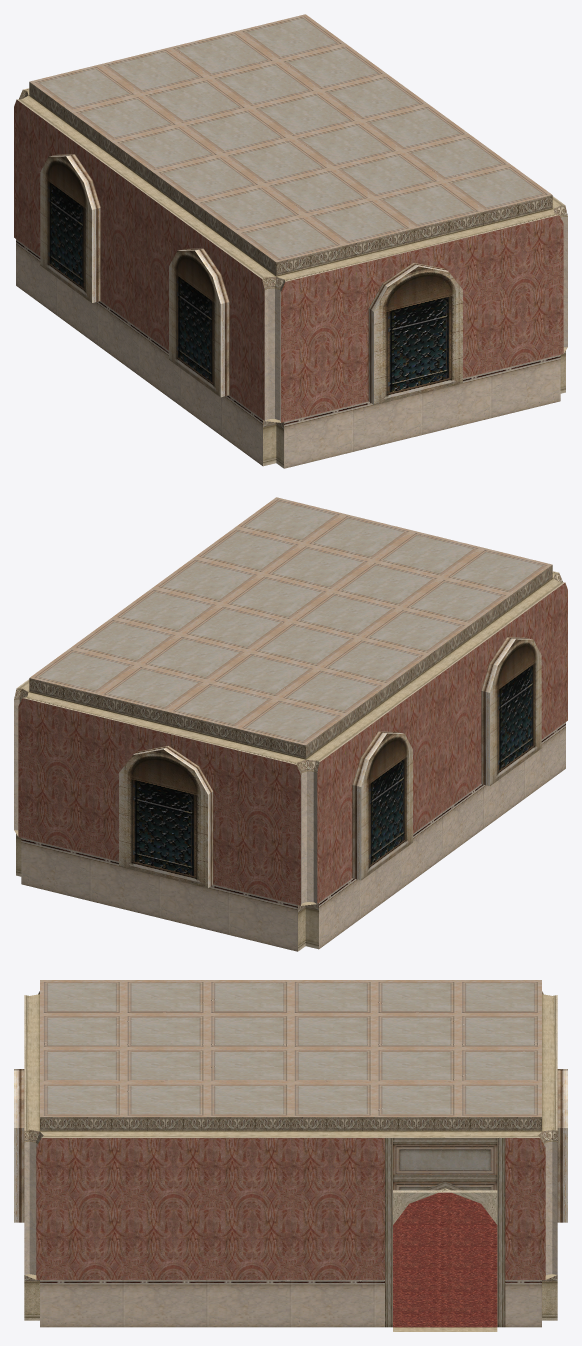
The model's file is ply_nboo_house_sm_s02_fp1_r4_room2_mesh_r4.fbx.
3 views of the same model, one above another, from view 1: azimuth 30°, elevation 25°; view 2: azimuth 150°, elevation 25°; view 3: azimuth 270°, elevation 25° (orthographic).
Visible parts, largest first — view 1: mesh_node; view 2: mesh_node; view 3: mesh_node.
Boxes of the visible parts, x1,y1,x2,y2 form: mesh_node: (14, 14, 567, 468); mesh_node: (14, 497, 567, 951); mesh_node: (14, 980, 567, 1331).
Size of the model in its own units: 7.2 by 4.3 by 10.6.
